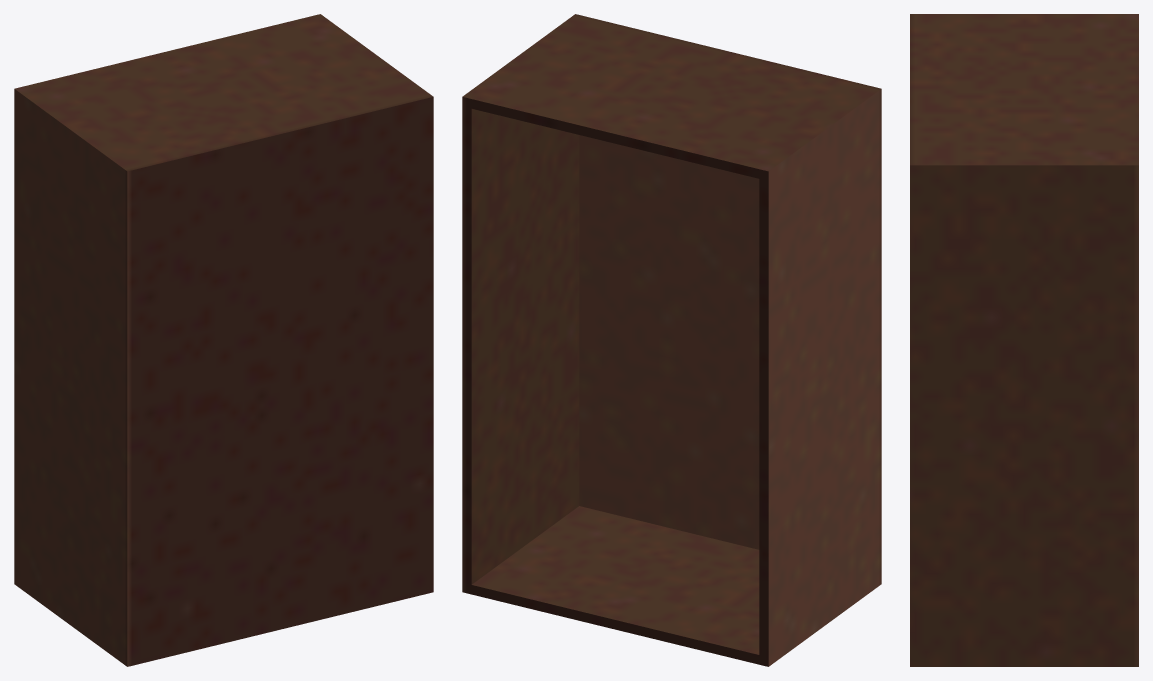
Rendered from tall_cabinet.fbx.
3 renders of one model, left to right at view 1: azimuth 30°, elevation 25°; view 2: azimuth 150°, elevation 25°; view 3: azimuth 270°, elevation 25°, orthographic.
Parts seen in each view (by area): view 1: Tall Cabinet; view 2: Tall Cabinet; view 3: Tall Cabinet.
Part boxes in pixels (<box>): Tall Cabinet: <box>14,14,433,666</box>; Tall Cabinet: <box>462,14,881,666</box>; Tall Cabinet: <box>910,14,1138,666</box>.
Size of the model in its own units: 1.66 by 1.06 by 2.57.
1 material, 1 textured.
